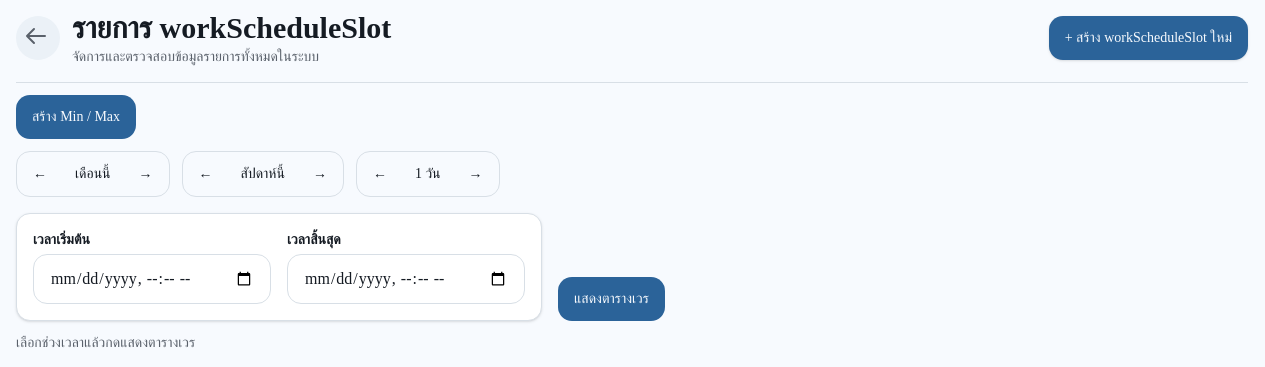
Test: Admin slot calendar period controls › fills the current month in the place timezone without applying or requesting it
Expected: the button "แสดงตารางเวร" is shown, top-left (558, 277), bottom-right (665, 321)
Click the button "เดือนนี้".
click(93, 174)  # box top-left (63, 156), bottom-right (122, 192)
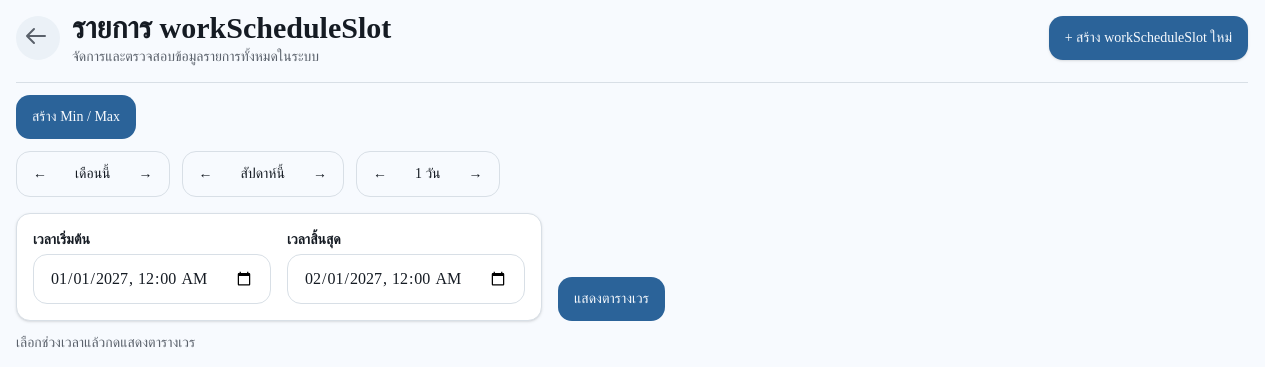
Expected: the number of fields is 2, top-left (33, 254), bottom-right (271, 304); top-left (287, 254), bottom-right (525, 304)
Expected: the field below "เวลาเริ่มต้น" holds "2027-01-01T00:00", top-left (33, 254), bottom-right (271, 304)
Expected: the field below "เวลาสิ้นสุด" holds "2027-02-01T00:00", top-left (287, 254), bottom-right (525, 304)
